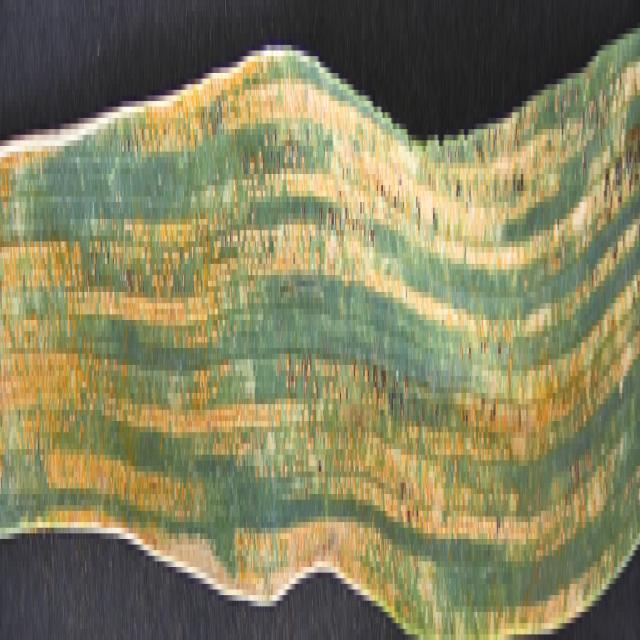leaf rust: (0, 28, 640, 623)
